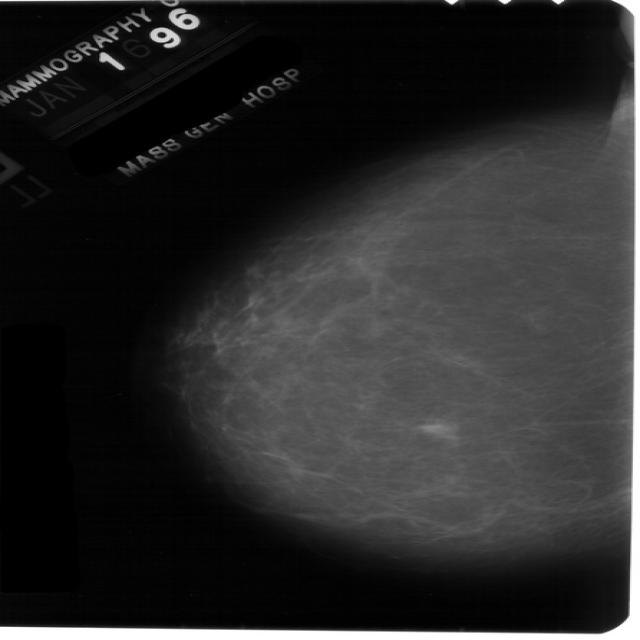tumour: (416, 420, 455, 437)
